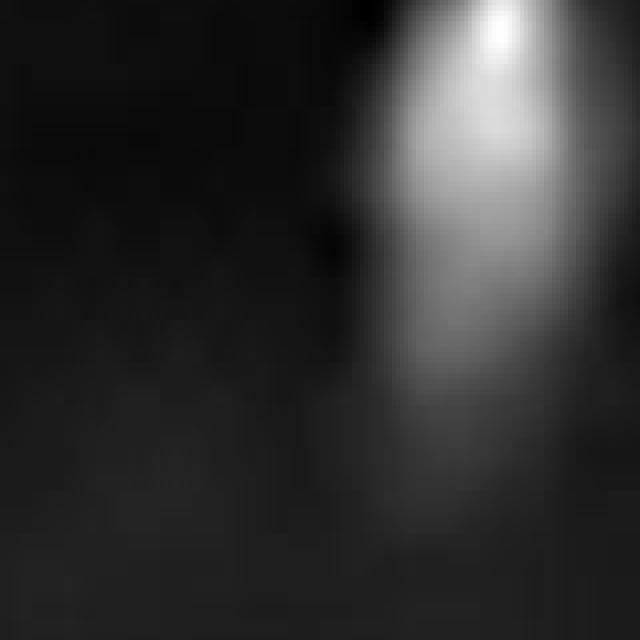person: (333, 1, 613, 465)
